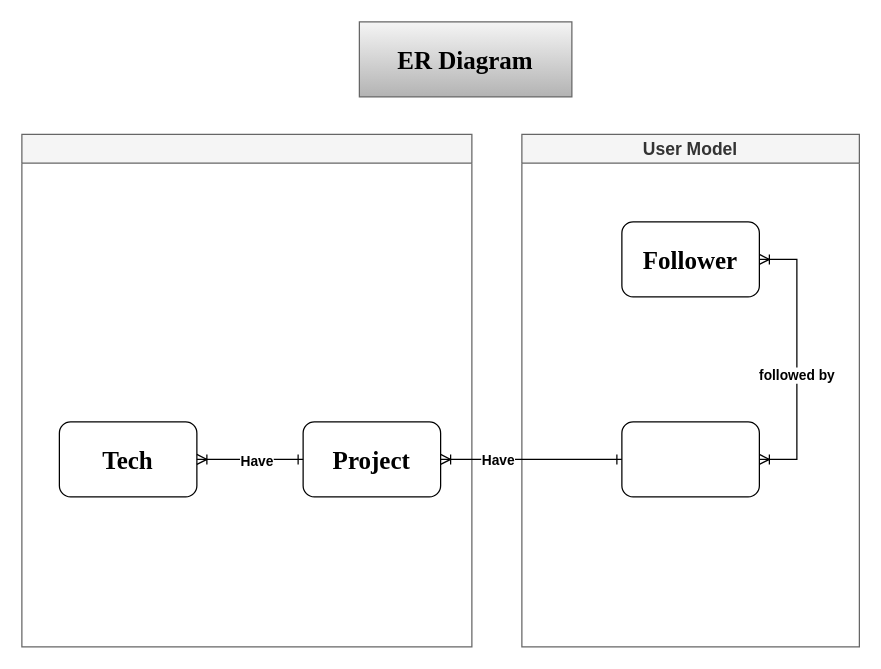
The diagram is 881 pixels wide and 669 high, and some of its shapes have lost their labels. Here are the shapes that lost their labels. From the top down, the box of each, then its label:
(21, 133, 472, 647): Project Model
(621, 421, 759, 497): User
